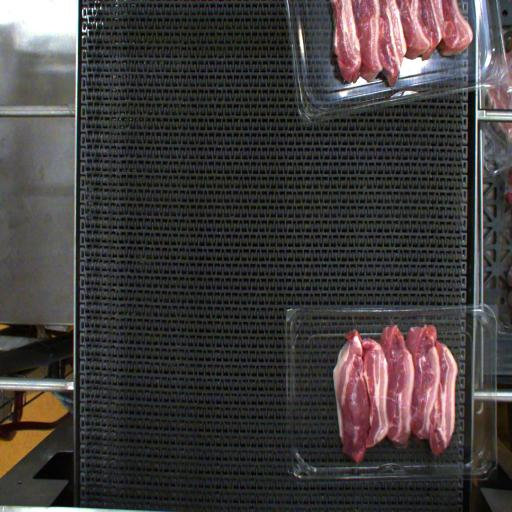packaging-error: (414, 314, 427, 328)
